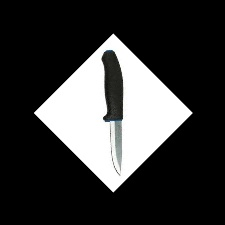k1: (103, 104, 127, 176)
